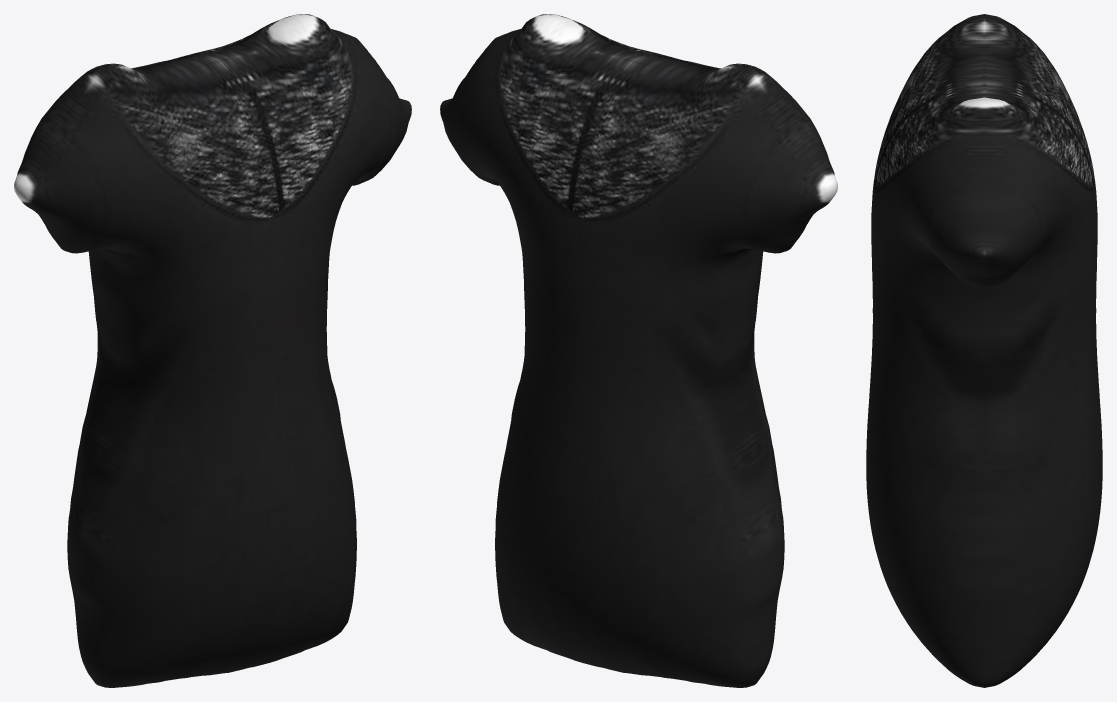
The model's file is 7SI21D04N-Q11@10=cloth_front.glb.
3 renders of one model, left to right at view 1: azimuth 30°, elevation 25°; view 2: azimuth 150°, elevation 25°; view 3: azimuth 270°, elevation 25°, orthographic. The views are drawn at different scales.
Bounding box in the file's own units: 4.48 × 6.78 × 2.51.
1 material, 1 textured.
